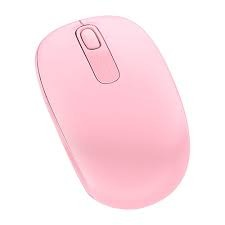mouse: (28, 13, 193, 218)
